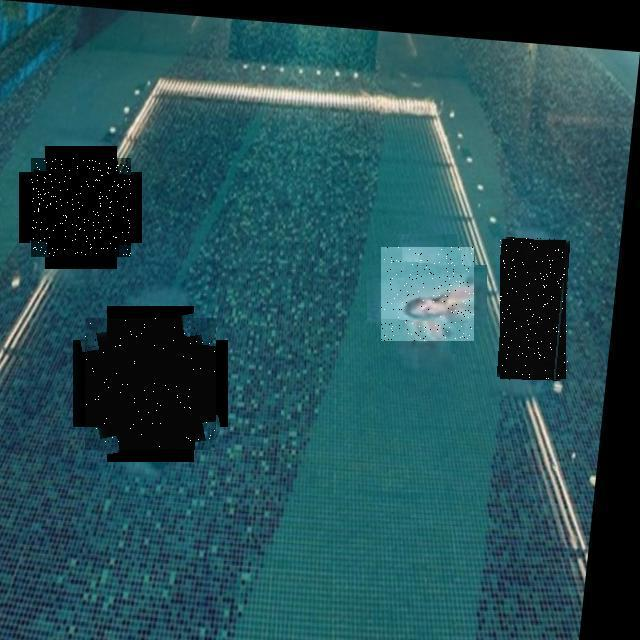swimming: (85, 318, 216, 450), (31, 158, 131, 257), (500, 238, 568, 380), (381, 247, 474, 341)
